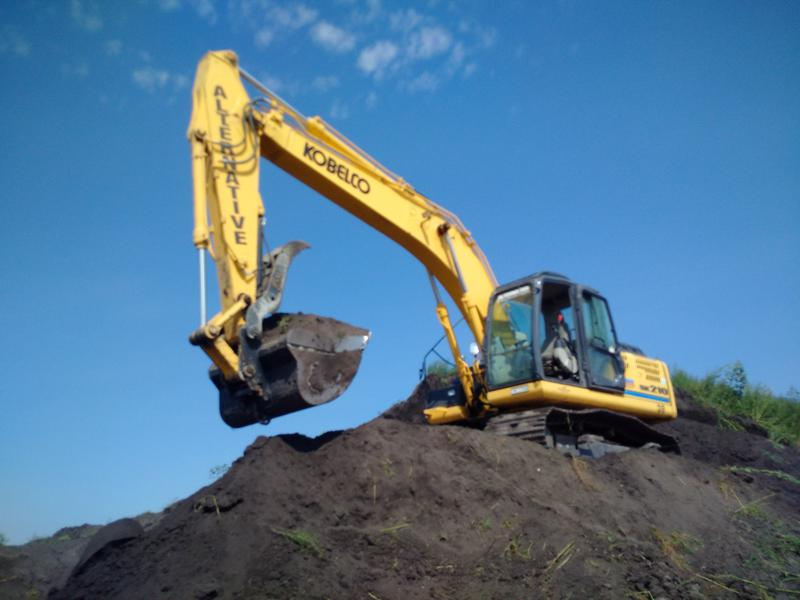shovel: (181, 45, 687, 451)
